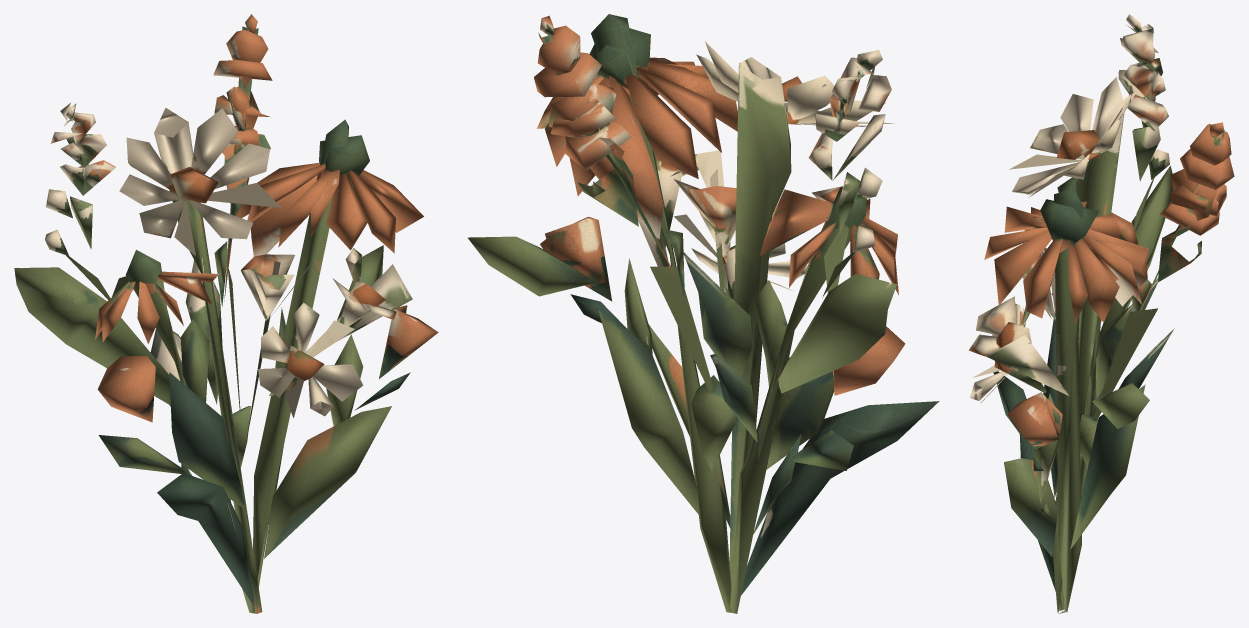
File: AW-VAR-FLORA-005-v0.2.glb
3 renders of one model, left to right at view 1: azimuth 30°, elevation 25°; view 2: azimuth 150°, elevation 25°; view 3: azimuth 270°, elevation 25°, orthographic. The views are drawn at different scales.
Visible parts, largest first — view 1: AW-VAR-FLORA-005_meter_ground_pivot; view 2: AW-VAR-FLORA-005_meter_ground_pivot; view 3: AW-VAR-FLORA-005_meter_ground_pivot.
Boxes of the visible parts, <box> form: AW-VAR-FLORA-005_meter_ground_pivot: <box>14,14,438,613</box>; AW-VAR-FLORA-005_meter_ground_pivot: <box>468,14,939,613</box>; AW-VAR-FLORA-005_meter_ground_pivot: <box>968,14,1234,613</box>.
Size of the model in its own units: 0.4686 by 0.65 by 0.2974.
1 material, 1 textured.
